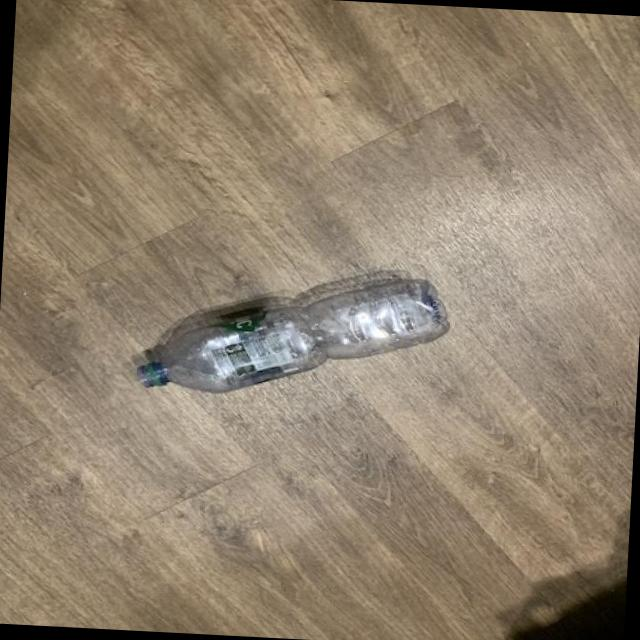plastic_bottle: (136, 264, 452, 406)
